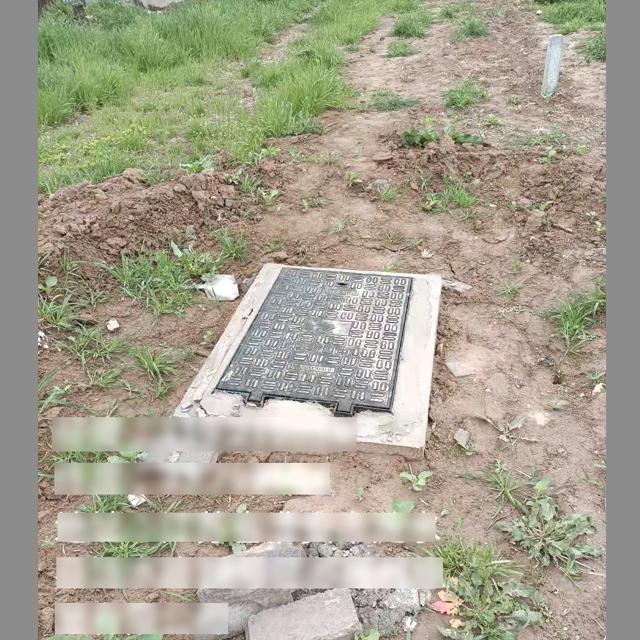good: (209, 260, 420, 427)
